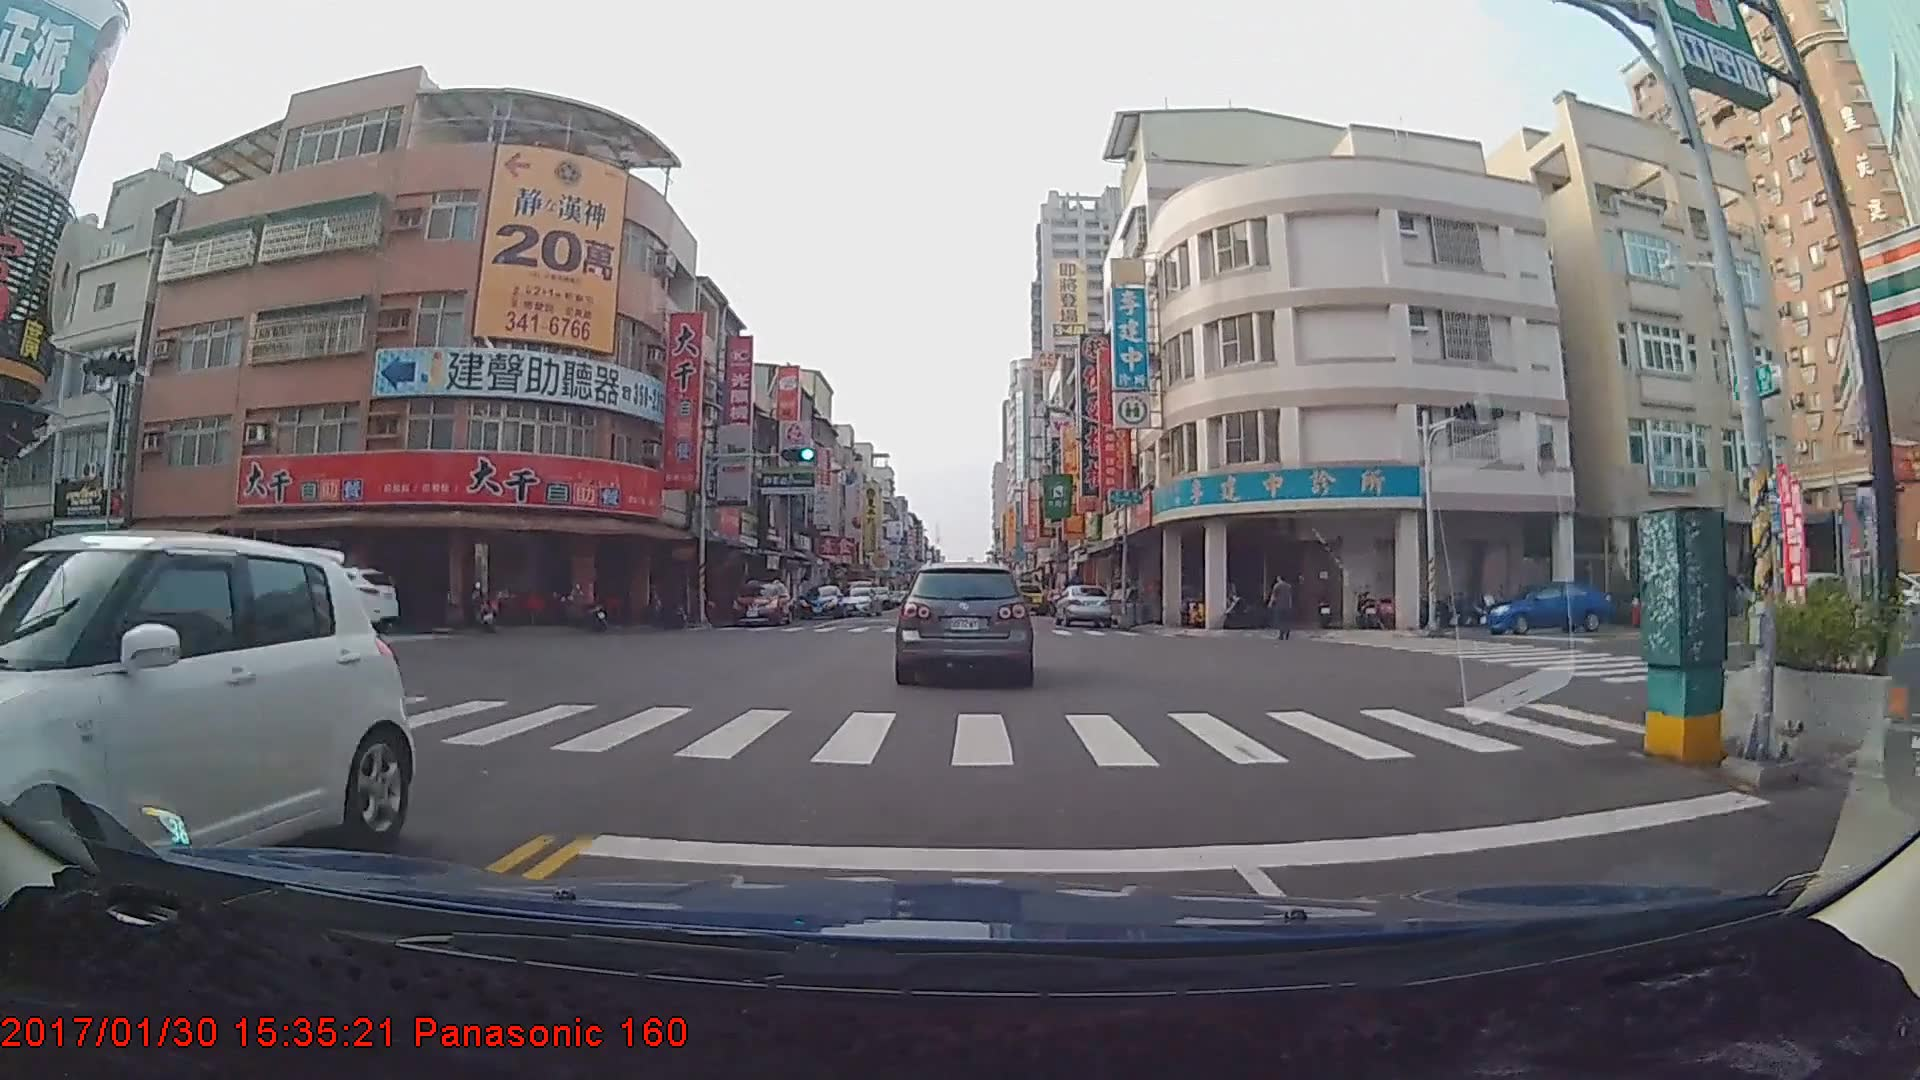pedestrian: (1269, 575, 1297, 646)
vehicle: (0, 529, 413, 921), (893, 561, 1034, 686), (242, 561, 398, 633), (1479, 582, 1610, 637), (732, 577, 792, 627), (1051, 581, 1113, 625), (798, 581, 845, 616), (836, 585, 882, 614), (1009, 581, 1046, 614)
